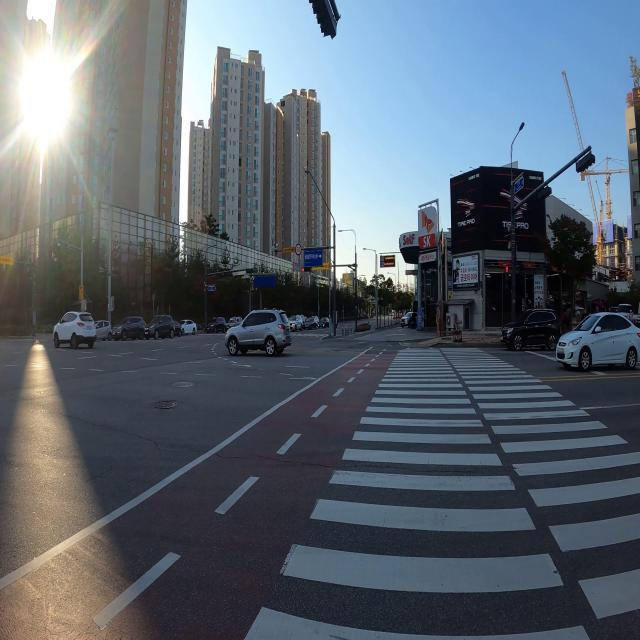crosswalk: (244, 346, 640, 640), (197, 332, 335, 337)
